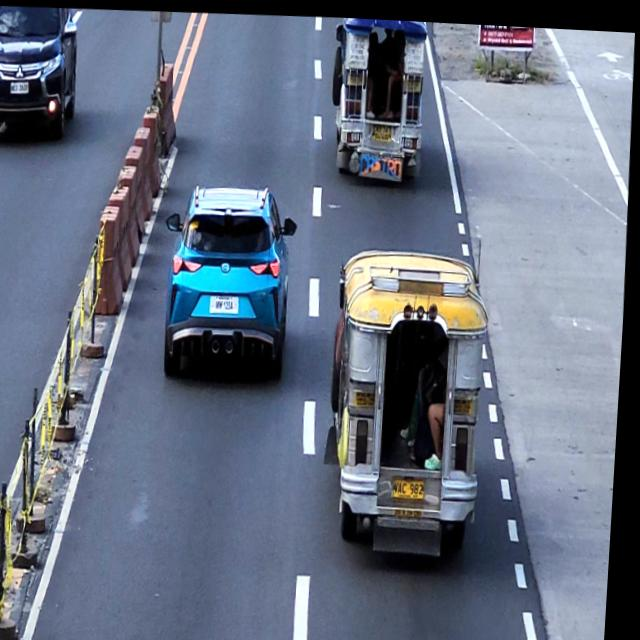Car: (160, 178, 303, 380), (0, 4, 84, 141)
Jeep: (325, 240, 499, 556), (327, 14, 430, 181)
License-Plate: (397, 472, 430, 496), (211, 292, 243, 313), (371, 118, 394, 135), (10, 81, 30, 93)
